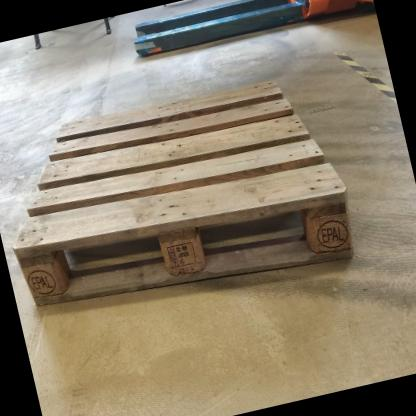BoxFace: (9, 69, 362, 317)
